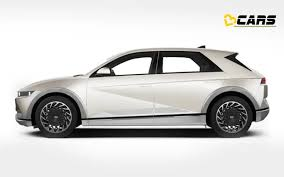Honda Ioniq: (13, 40, 275, 146)
